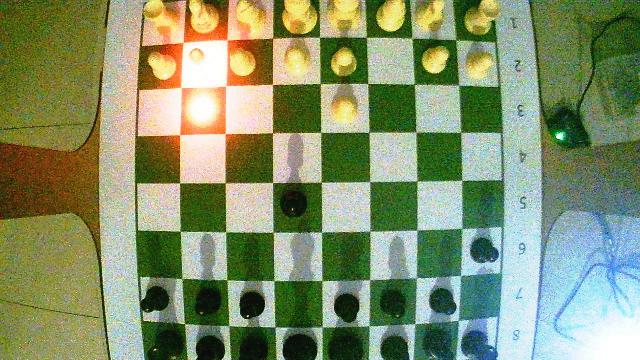piece: (370, 325, 409, 359), (228, 0, 268, 33), (148, 328, 190, 359), (281, 0, 319, 34), (280, 329, 319, 359), (144, 0, 178, 33), (465, 0, 499, 33), (186, 0, 218, 35), (459, 329, 496, 359), (326, 0, 359, 31), (229, 41, 257, 77), (325, 334, 364, 359), (429, 281, 458, 314), (376, 0, 406, 31), (147, 50, 178, 80), (240, 287, 265, 324), (195, 332, 229, 359), (331, 88, 358, 122), (415, 0, 444, 30), (238, 331, 269, 359), (333, 291, 359, 324), (285, 40, 309, 75), (330, 46, 358, 76), (381, 287, 407, 319), (140, 286, 170, 313), (424, 333, 455, 359), (421, 46, 449, 73), (470, 237, 498, 261), (281, 190, 304, 216), (196, 287, 218, 314), (184, 45, 209, 66), (471, 51, 489, 75)
